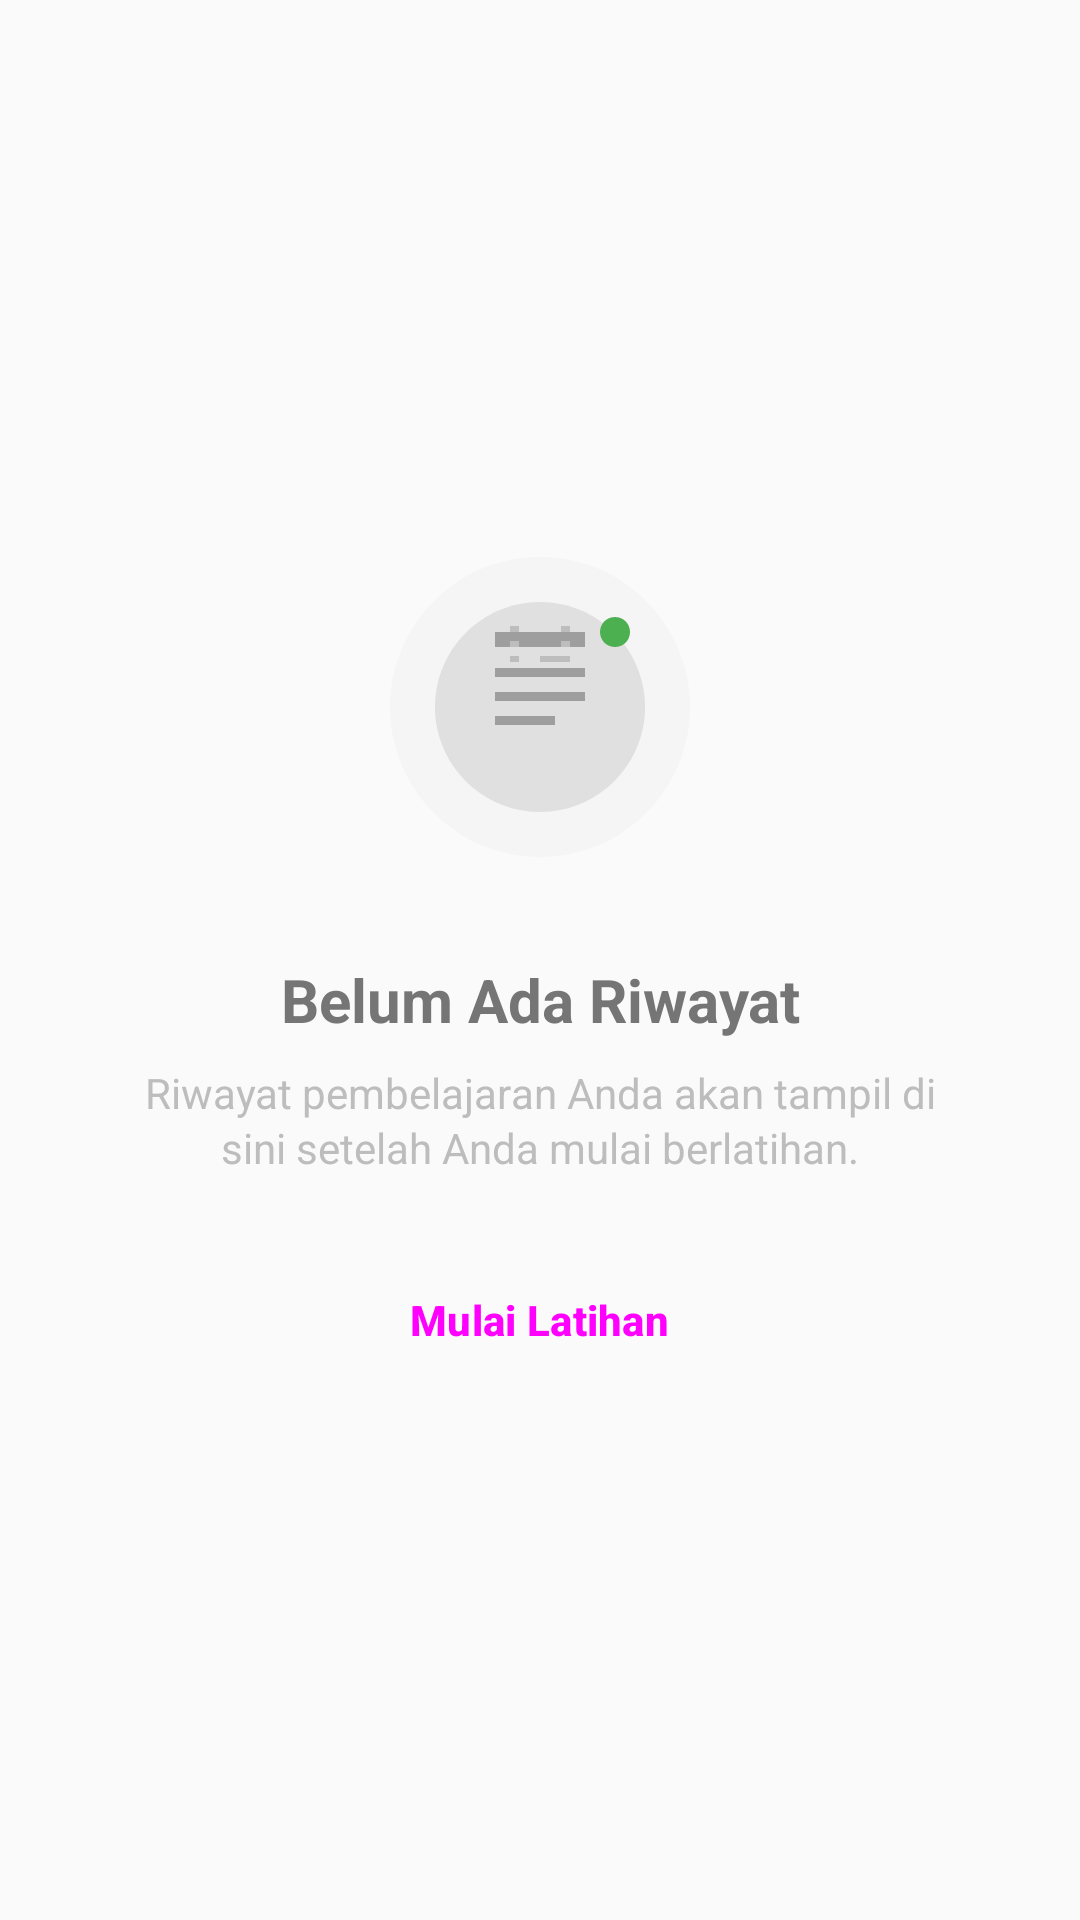

Icon bounding boxes for this 1080px x 1920px phone screenshot, format (x1, y1, x2, y2):
Empty history state: (435, 602, 645, 812)
